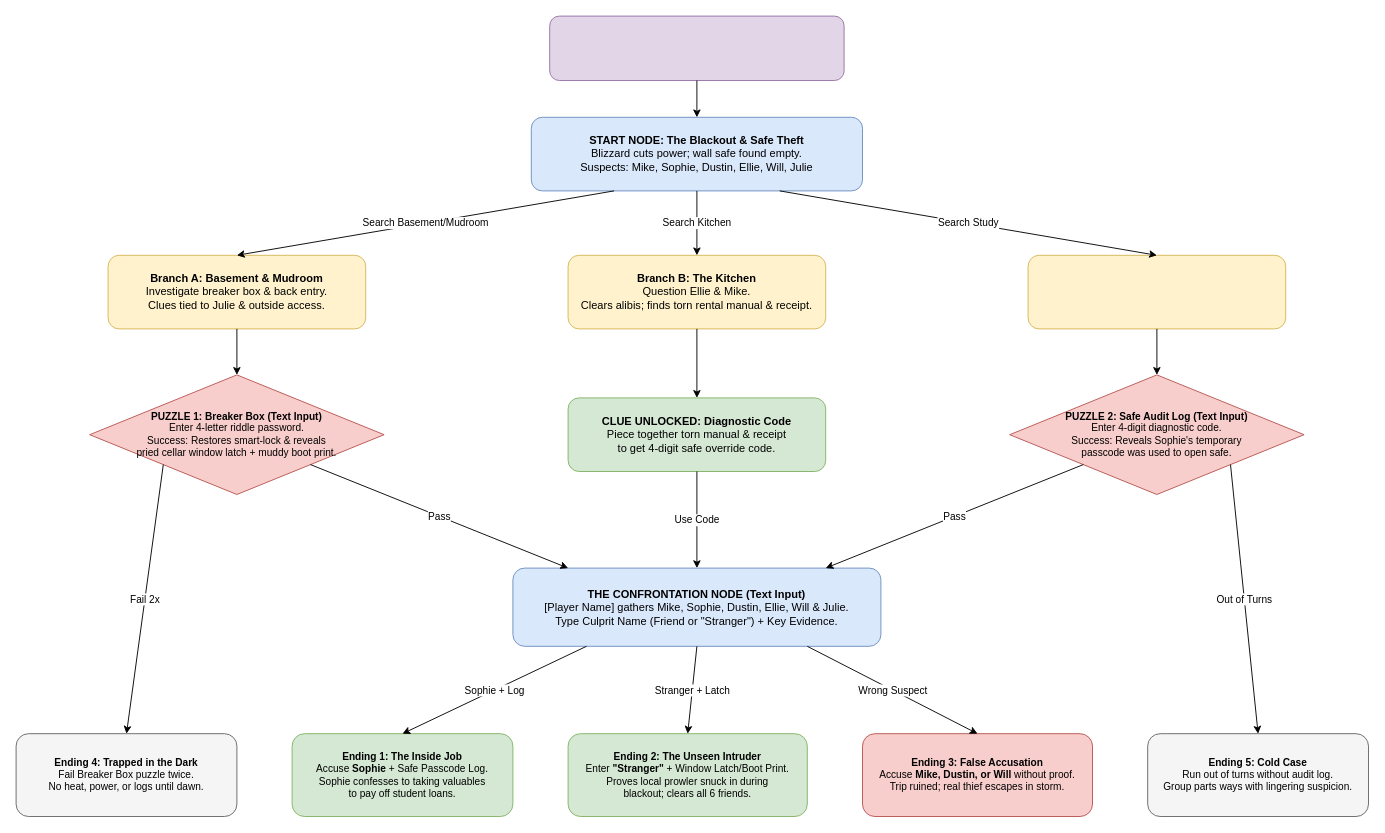
This 1385x833 diagram has some shape labels left out. The centre of each missing label's shape, as x and y in pixels:
Branch C: The Study Inspect open wall safe. Question Sophie, Dustin & Will.: point 1156,291
CHARACTER CUSTOMIZATION Text Input: Enter Player Name (Female Protagonist): point 696,47
